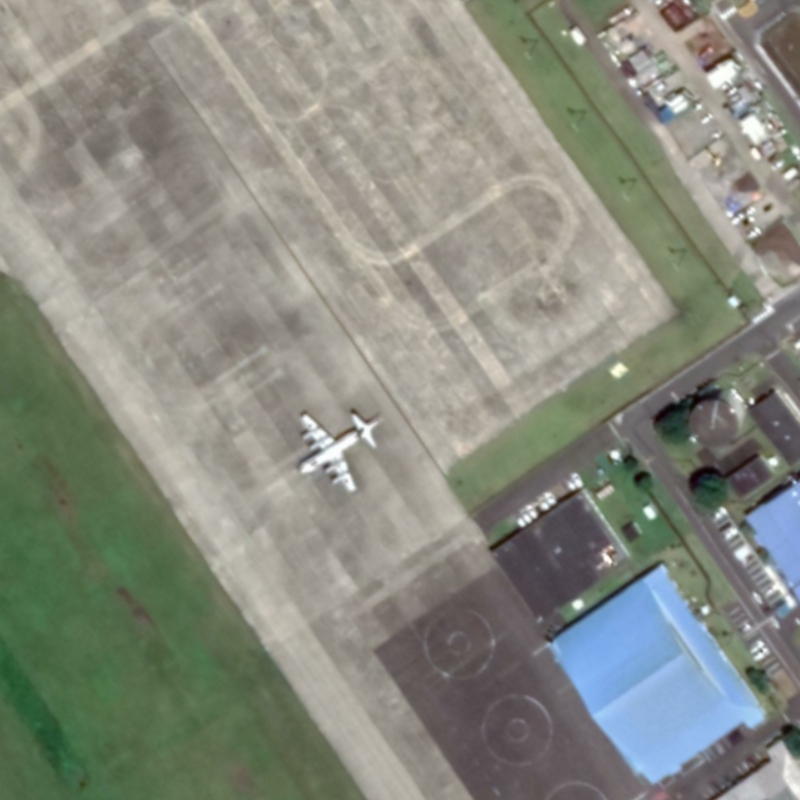A9: (288, 399, 387, 499)
